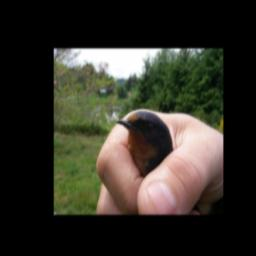Swallow: (114, 109, 175, 178)
